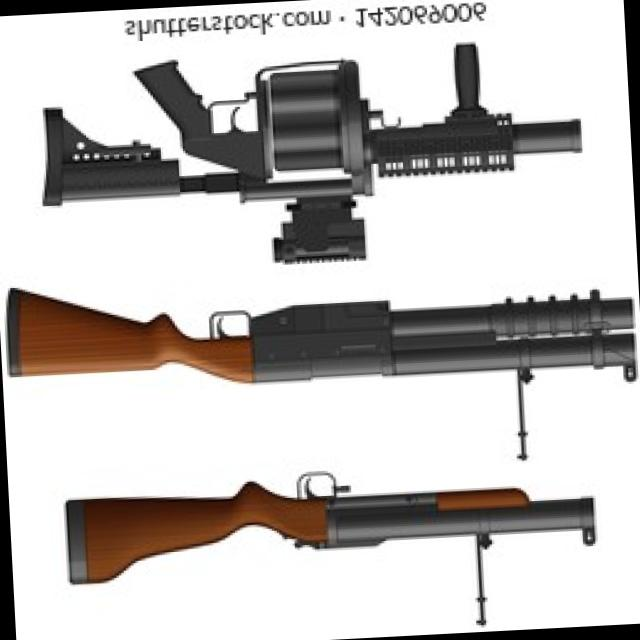Weapon: (30, 23, 612, 280), (2, 253, 640, 433), (49, 447, 616, 597)
